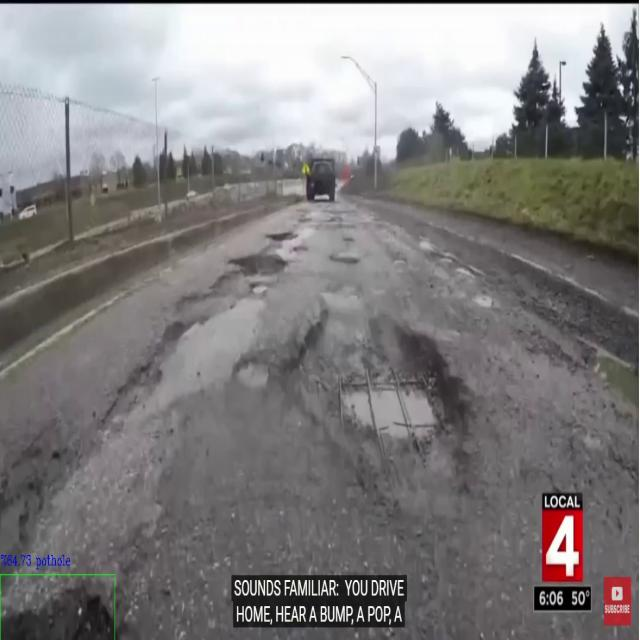pothole: (99, 248, 288, 432), (332, 308, 468, 456), (2, 573, 115, 640), (231, 355, 272, 395), (265, 228, 297, 244)
